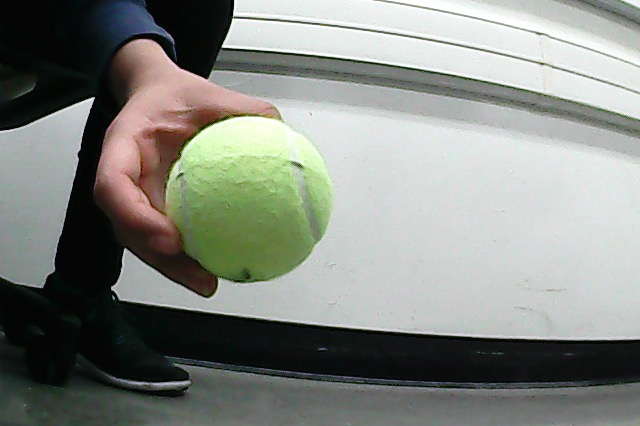ball: (166, 117, 332, 283)
